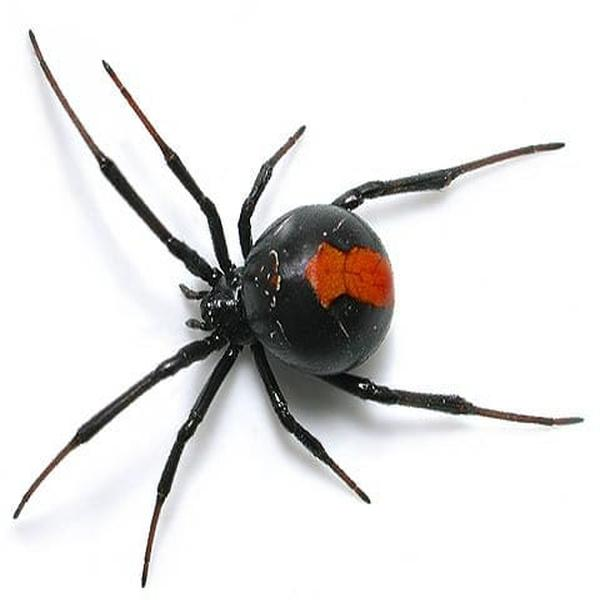Redback Spider: (22, 29, 586, 571)
